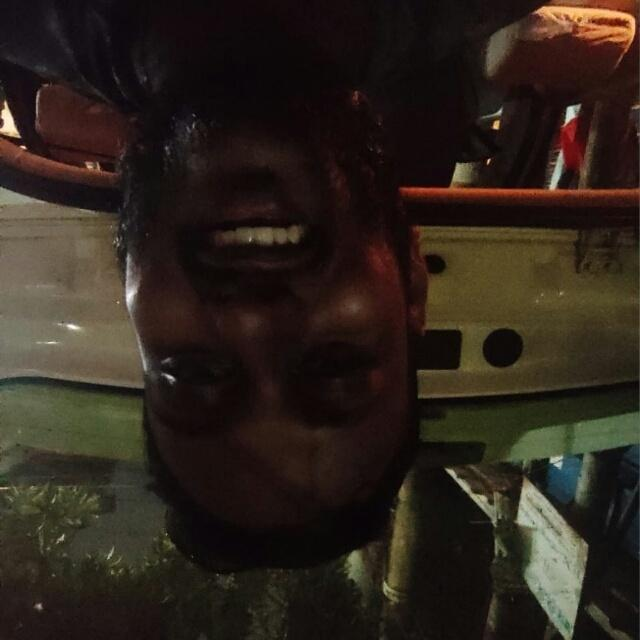Happy: (97, 53, 459, 538)
